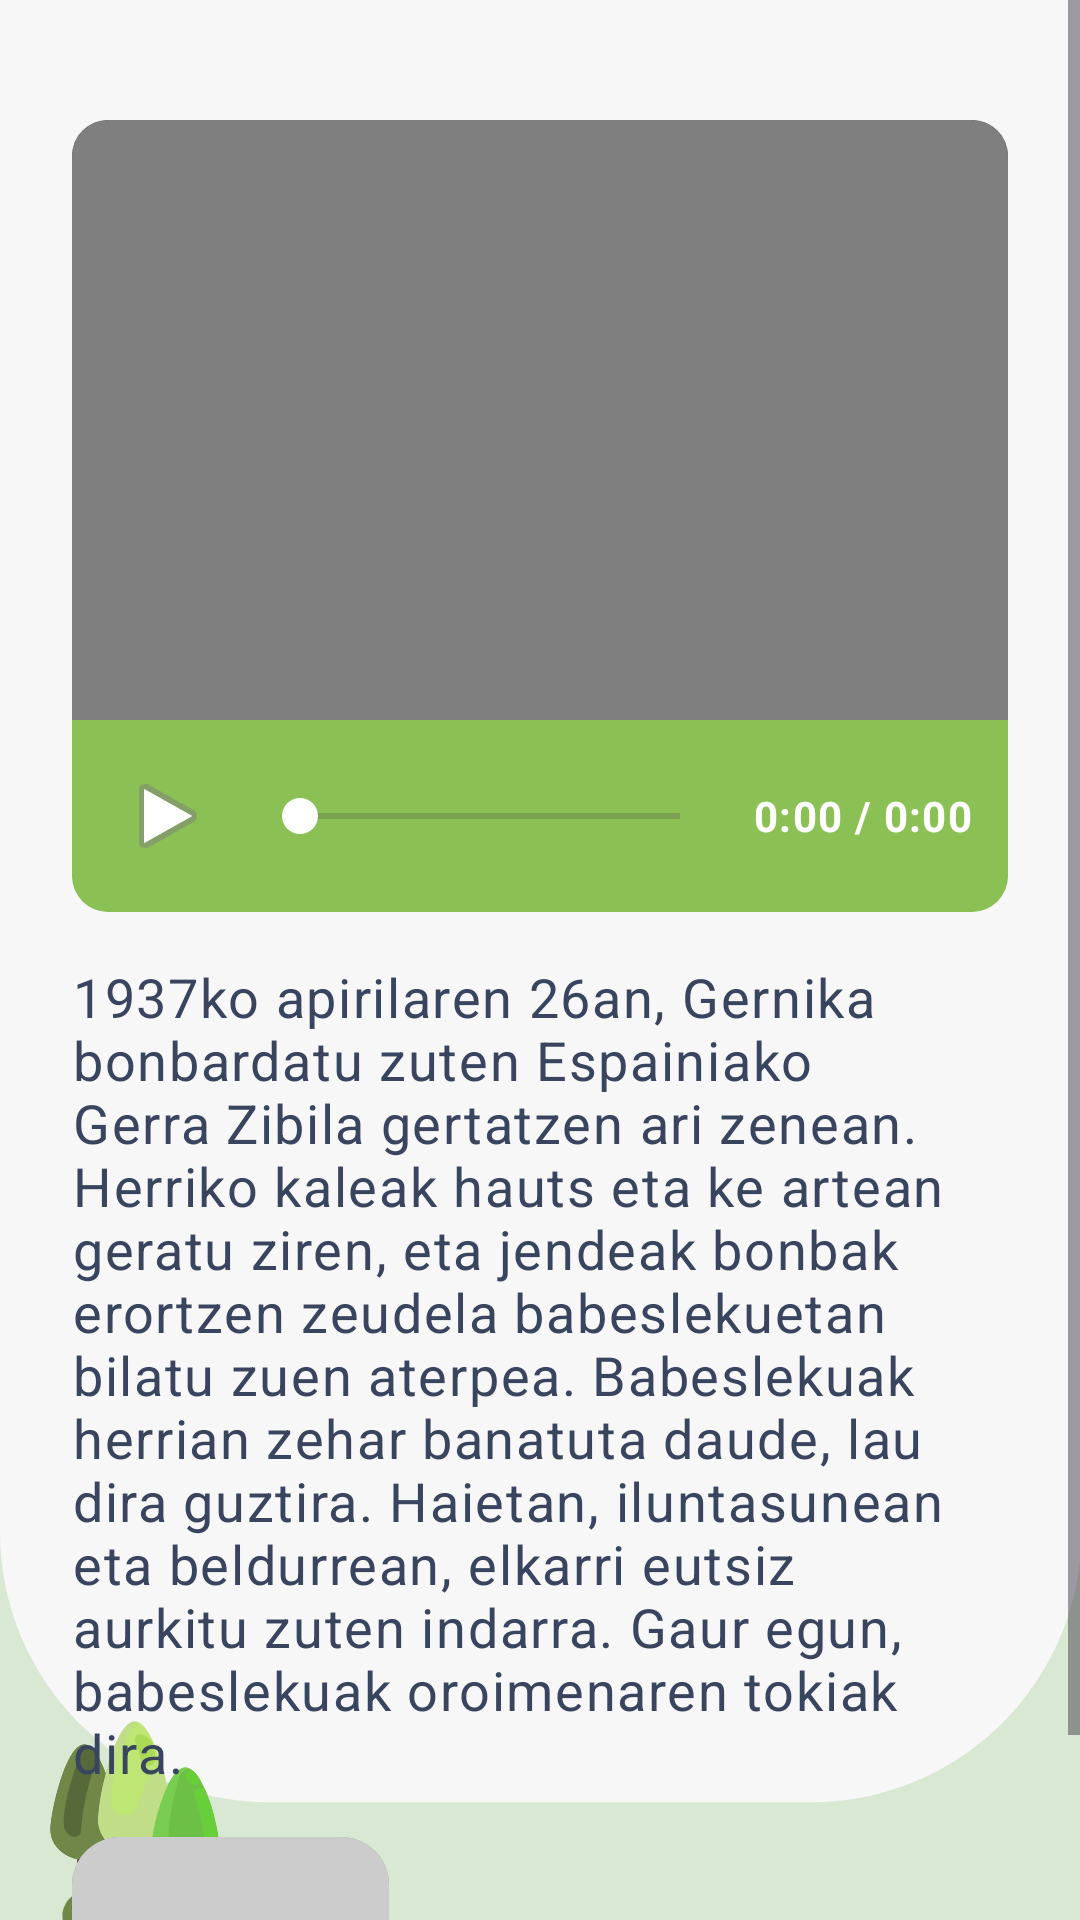

Point at icon controls on the screen. Image size 1080*1920, points as (x,y).
Erreproduzitu/Gelditu: (168,816)
